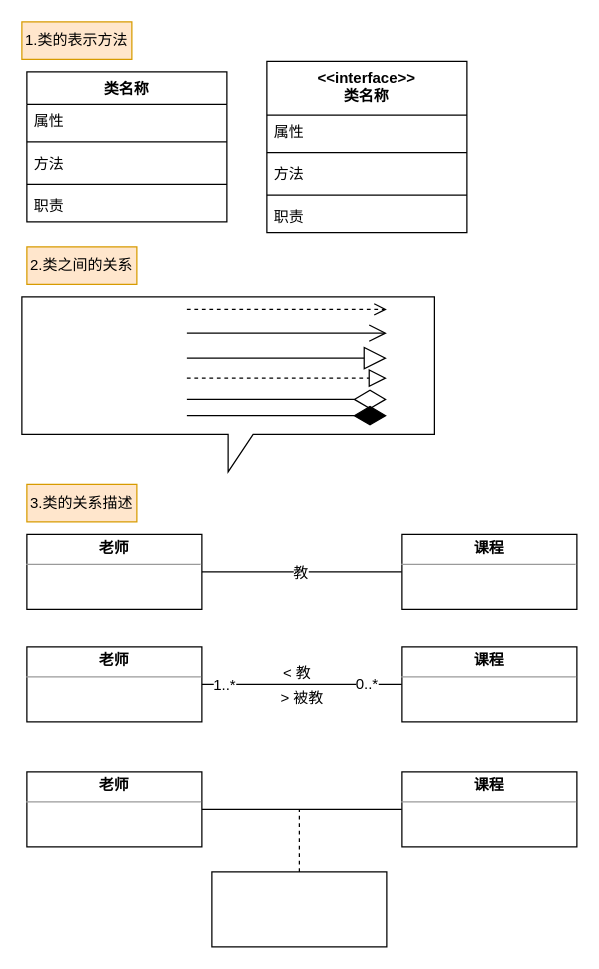
The diagram is 599 pixels wide and 969 high, and some of its shapes have lost their labels. The shapes that lost their labels are listed below. From the top down, each one's box as (x1, y1, x2, y2) in pixels, then its label:
(21, 296, 434, 472): 依赖关系 关联关系 继承或泛化关系 实现关系 组合关系 聚合关系
(211, 871, 387, 947): 教的关系类（关联类）
